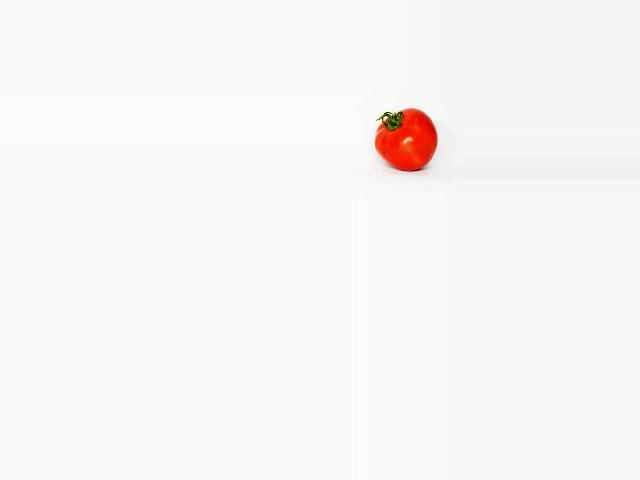tomato: (375, 107, 437, 171)
